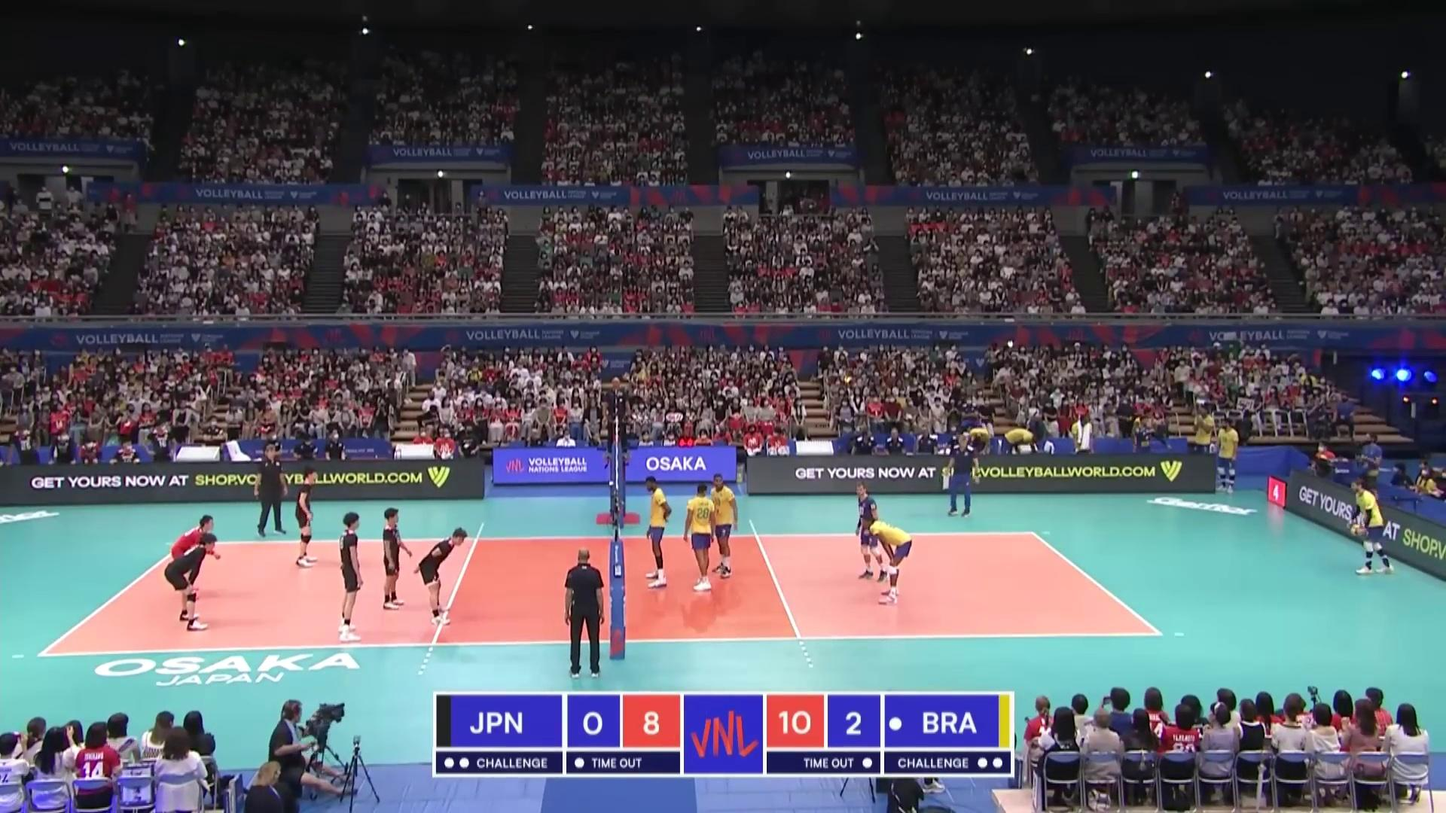player: (418, 529, 470, 625), (165, 535, 216, 632), (861, 513, 913, 606), (1349, 478, 1393, 577), (171, 516, 214, 604), (335, 514, 365, 640), (686, 485, 718, 593), (642, 478, 673, 586), (854, 484, 887, 581), (381, 507, 409, 611), (711, 476, 739, 578), (296, 468, 319, 568)
refree: (563, 546, 607, 677), (603, 377, 633, 462)
